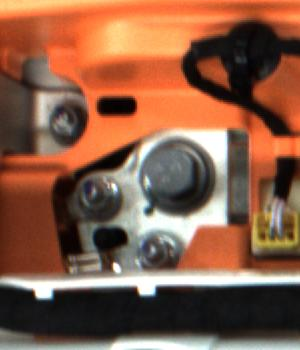nut_b: (134, 135, 210, 214)
screw_s: (42, 105, 80, 143), (136, 230, 170, 271), (81, 181, 116, 216)
